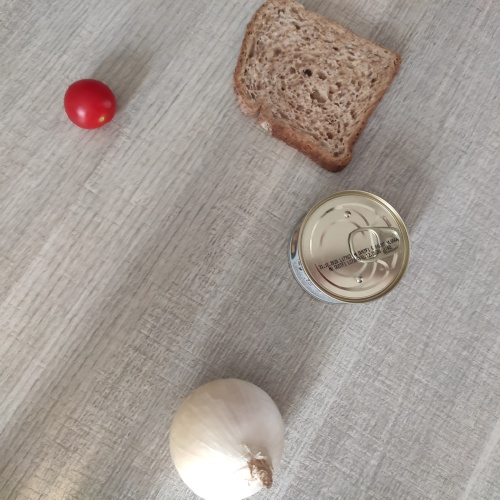cipolla: (164, 376, 300, 497)
pane: (231, 3, 407, 175)
pomodoro: (60, 74, 126, 137)
tonno: (286, 184, 422, 317)
